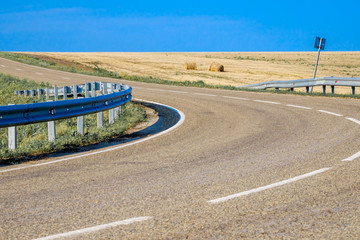leftTrun: (117, 71, 360, 216)
